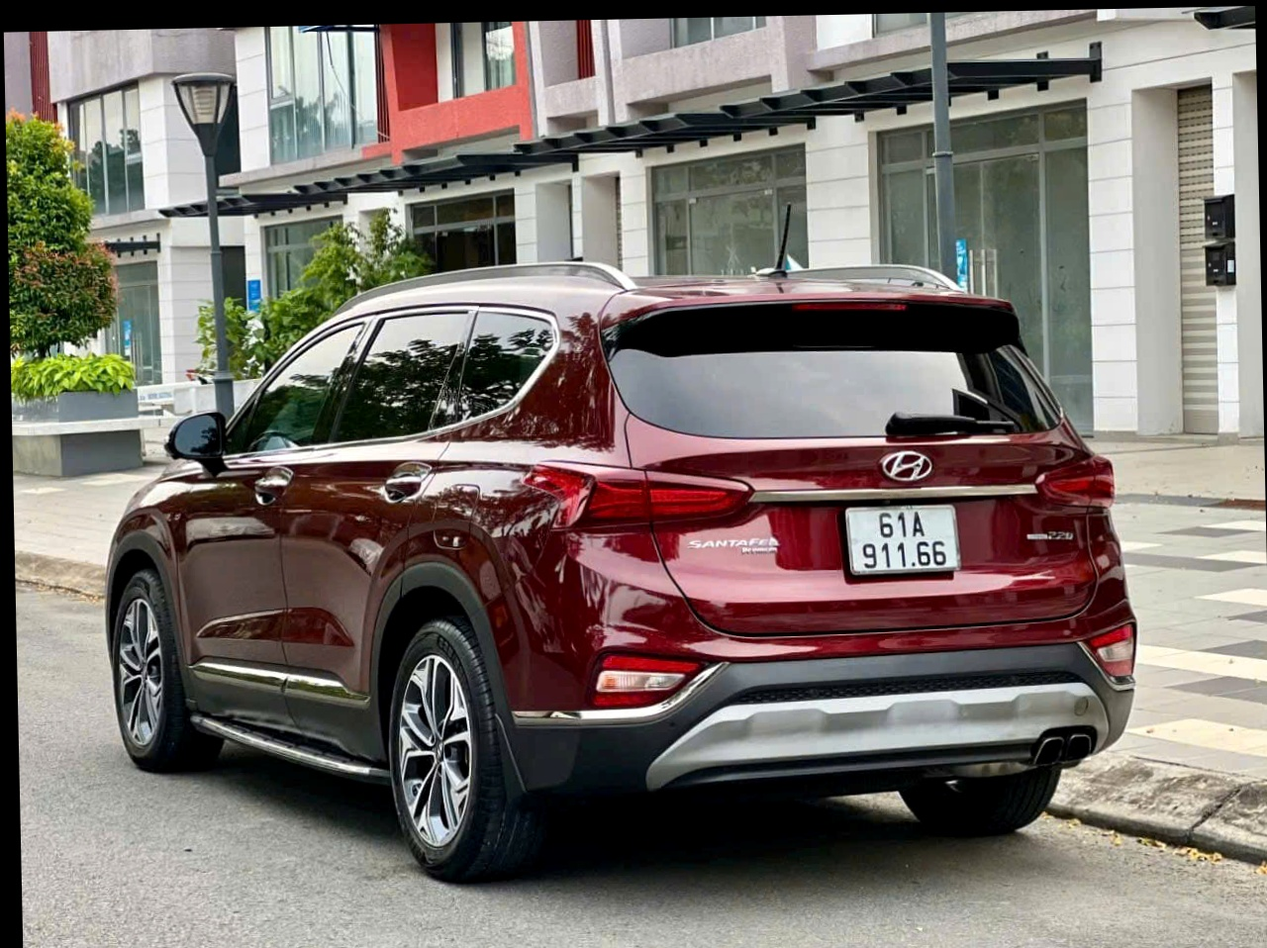Bien-so: (870, 456, 989, 531)
